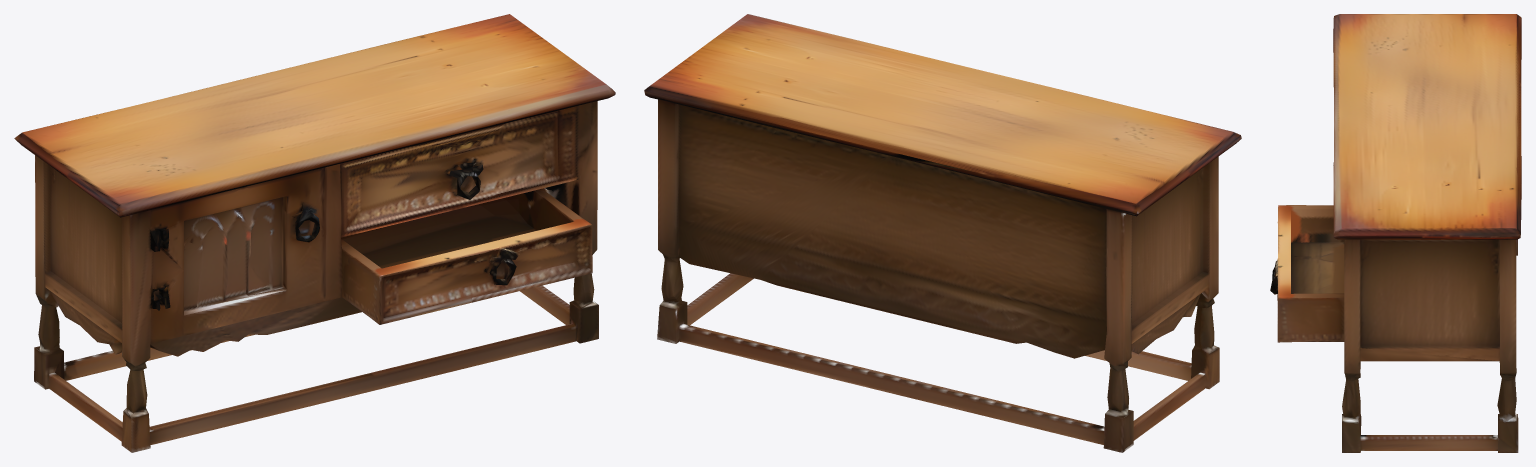
Rendered from base_basic_shaded.fbx.
The picture shows the model from 3 angles, left to right: view 1: azimuth 30°, elevation 25°; view 2: azimuth 150°, elevation 25°; view 3: azimuth 270°, elevation 25°; orthographic projection. The views are drawn at different scales.
Parts seen in each view (by area): view 1: model; view 2: model; view 3: model.
Boxes of the visible parts, x1,y1,x2,y2 form: model: (14,14,615,452); model: (644,14,1241,452); model: (1270,14,1521,452).
Size of the model in its own units: 146 by 71.1 by 71.05.
